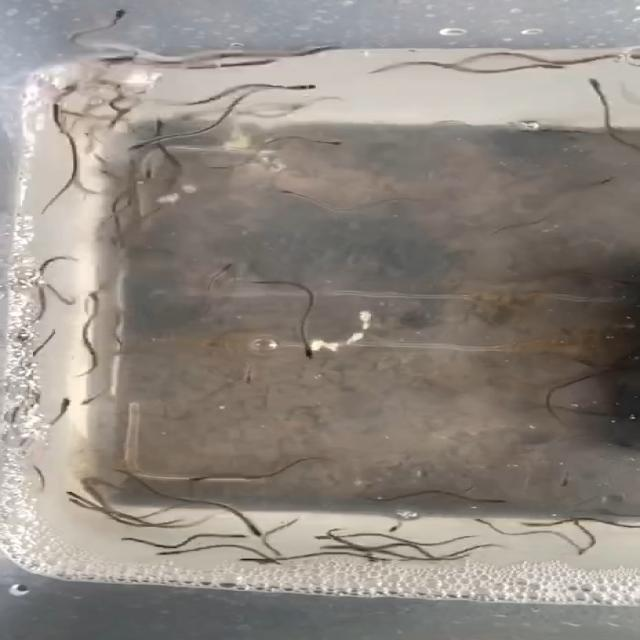inactive_glass_eel: (296, 38, 352, 58), (74, 388, 112, 411), (268, 80, 332, 93), (185, 466, 231, 483), (45, 393, 76, 418), (554, 464, 581, 492), (103, 4, 141, 23), (314, 135, 365, 148), (292, 336, 317, 362), (62, 483, 91, 505), (612, 43, 640, 65), (65, 498, 98, 516), (237, 521, 269, 539), (471, 515, 512, 529), (45, 99, 71, 121), (477, 492, 520, 505), (13, 321, 36, 345), (134, 158, 159, 180), (149, 548, 194, 560), (322, 541, 374, 551), (519, 518, 566, 529), (532, 62, 578, 73), (268, 187, 306, 200), (151, 110, 171, 134), (309, 532, 355, 542), (209, 260, 233, 279), (213, 530, 250, 542), (238, 554, 282, 564), (237, 57, 279, 67), (589, 76, 609, 97), (82, 288, 104, 306), (389, 514, 409, 532)
